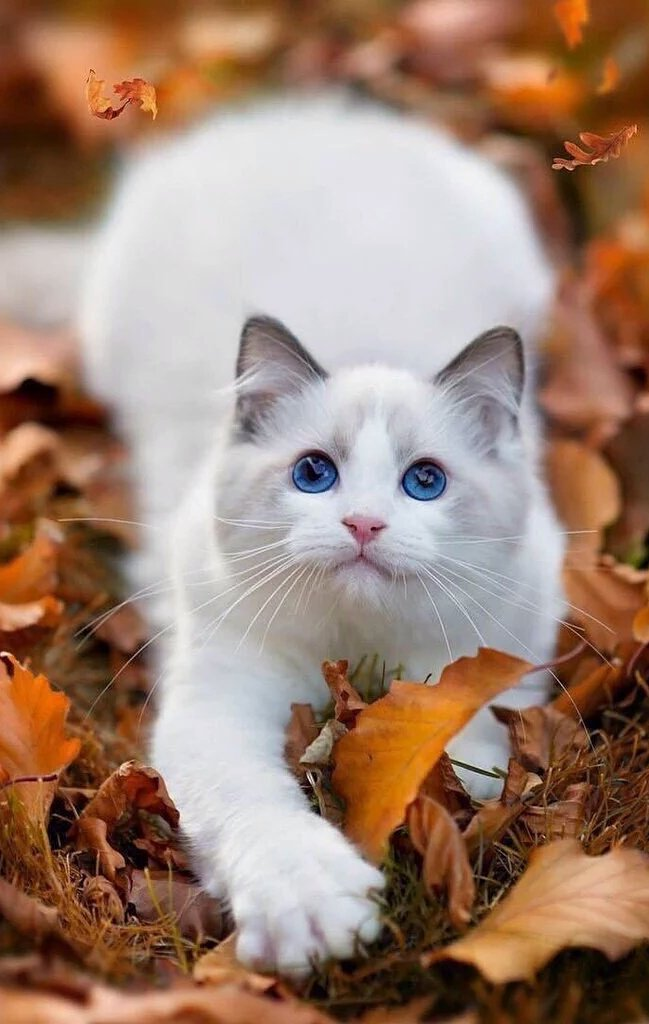cat: (108, 35, 576, 957)
